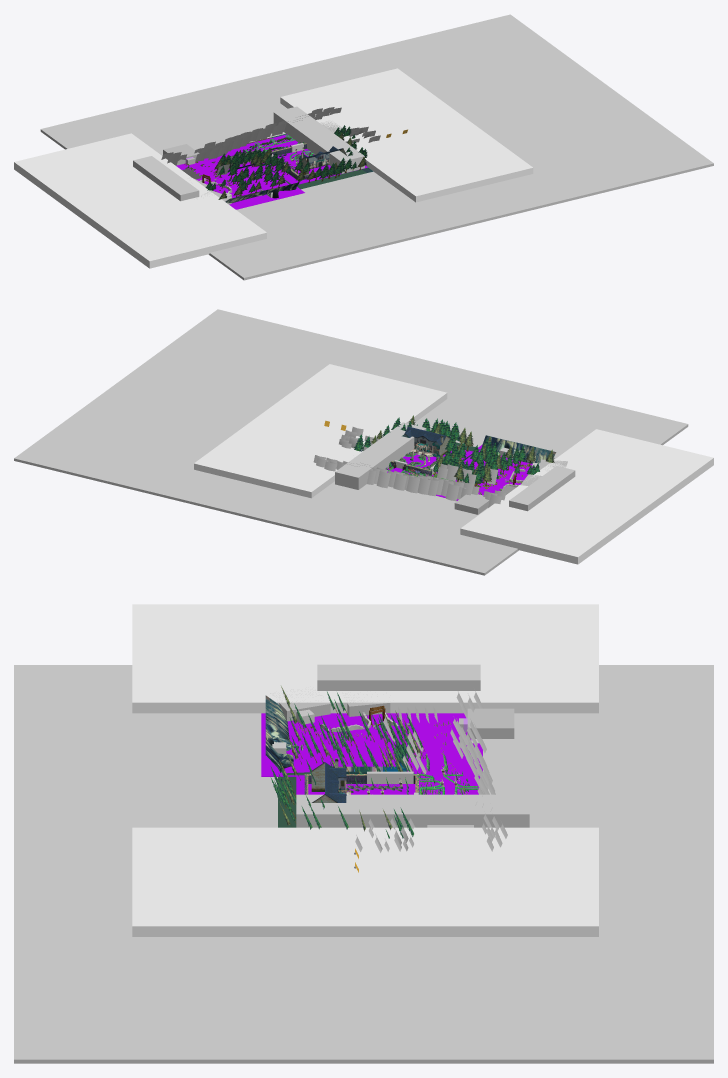
3 views of the same model, one above another, from view 1: azimuth 30°, elevation 25°; view 2: azimuth 150°, elevation 25°; view 3: azimuth 270°, elevation 25° (orthographic). The views are drawn at different scales.
Parts seen in each view (by area): view 1: Cube (×2), DoorWay_NavMask (2), DoorWay_NavMask (3), NavGrid_CheckArea (×2), Game_Camera_Limit01 (1), MapArea_02_003_tree01, Game_Camera_Limit01, MapArea_02_004_tree01, MapArea_02_003_tree02, MapArea_02_middle_002_tree02, MapArea_02_middle_004_tree02, MapArea_02_003_Rose_house01 (+3 smaller); view 2: Cube (×2), DoorWay_NavMask (2), DoorWay_NavMask (3), Game_Camera_Limit01 (1), MapArea_02_003_tree01, MapArea_02_004_tree01, Game_Camera_Limit01, NavGrid_CheckArea (×2), MapArea_02_003_tree02, MapArea_02_middle_004_tree02, MapArea_02_003_Rose_house01, MapArea_02_middle_002_tree02 (+4 smaller); view 3: Cube (×2), DoorWay_NavMask (3), DoorWay_NavMask (2), NavGrid_CheckArea (×2), Game_Camera_Limit01 (1), Game_Camera_Limit01, MapArea_02_003_tree01, MapArea_02_004_tree01, MapArea_02_004, DoorWay_NavBox (3), MapArea_02_003_Rose_house01, MapArea_02_middle_004_tree02 (+3 smaller).
Part boxes in pixels (x1,y1,x2,y2): Cube (×2): (40, 14, 713, 280); DoorWay_NavMask (2): (14, 133, 266, 268); DoorWay_NavMask (3): (280, 68, 533, 202); NavGrid_CheckArea (×2): (176, 134, 367, 209); Game_Camera_Limit01 (1): (273, 106, 364, 173); MapArea_02_003_tree01: (261, 141, 367, 182); Game_Camera_Limit01: (133, 156, 199, 201); MapArea_02_004_tree01: (206, 158, 285, 199); MapArea_02_003_tree02: (233, 115, 305, 146); MapArea_02_middle_002_tree02: (305, 107, 380, 143); MapArea_02_middle_004_tree02: (202, 136, 262, 165); MapArea_02_003_Rose_house01: (298, 146, 346, 174); Cube (×2): (14, 309, 688, 575); DoorWay_NavMask (2): (460, 429, 713, 564); DoorWay_NavMask (3): (194, 364, 447, 498); Game_Camera_Limit01 (1): (335, 422, 426, 489); MapArea_02_003_tree01: (383, 415, 473, 474); MapArea_02_004_tree01: (470, 436, 554, 479); Game_Camera_Limit01: (509, 466, 575, 511); NavGrid_CheckArea (×2): (387, 444, 532, 500); MapArea_02_003_tree02: (349, 462, 430, 494); MapArea_02_middle_004_tree02: (427, 463, 476, 501); MapArea_02_003_Rose_house01: (402, 426, 450, 460); MapArea_02_middle_002_tree02: (313, 427, 379, 471); Cube (×2): (14, 665, 713, 1063); DoorWay_NavMask (3): (132, 827, 598, 936); DoorWay_NavMask (2): (132, 604, 598, 713); NavGrid_CheckArea (×2): (261, 713, 482, 794); Game_Camera_Limit01 (1): (296, 794, 529, 827); Game_Camera_Limit01: (317, 664, 480, 690); MapArea_02_003_tree01: (270, 741, 410, 829); MapArea_02_004_tree01: (281, 686, 391, 764); MapArea_02_004: (265, 695, 298, 772); DoorWay_NavBox (3): (467, 708, 514, 738); MapArea_02_003_Rose_house01: (311, 758, 350, 802); MapArea_02_middle_004_tree02: (402, 724, 487, 773).
Size of what is drawn, in the model's own units: 226 by 13 by 150.
